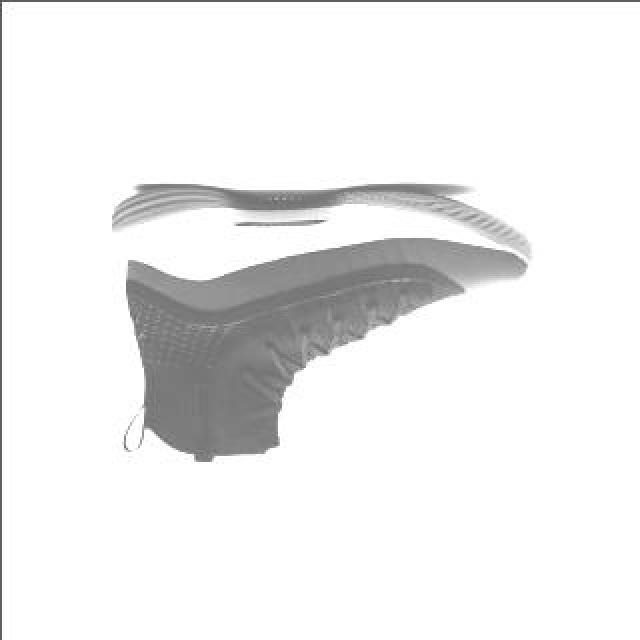shoe: (110, 184, 530, 460)
